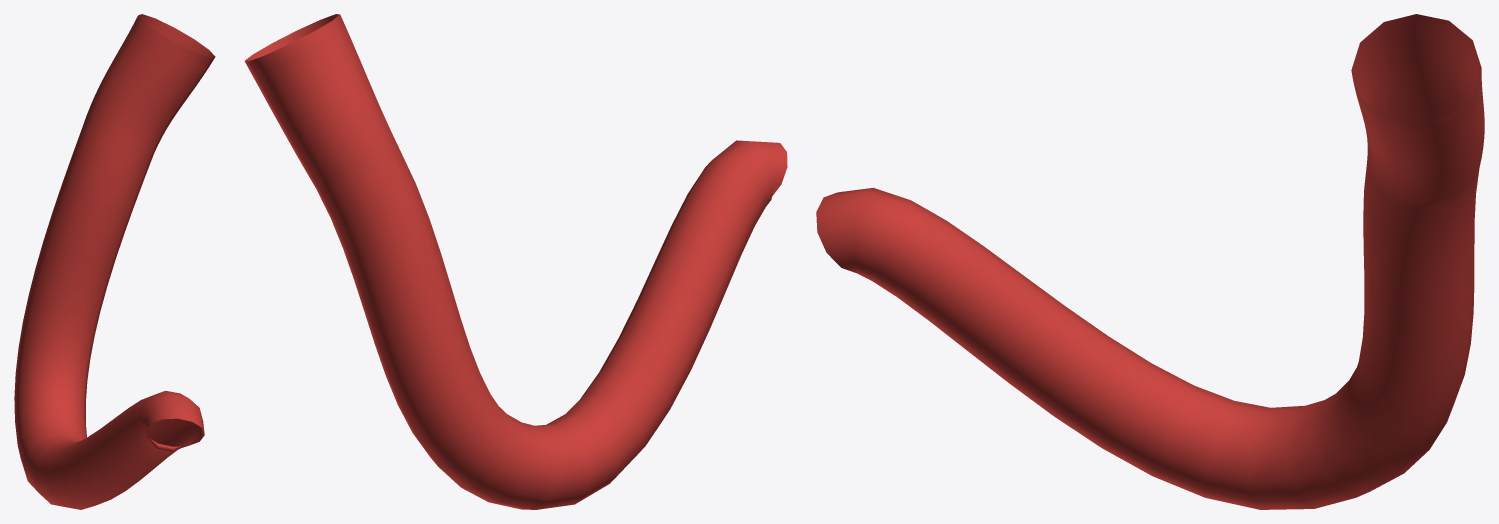
The picture shows the model from 3 angles, left to right: view 1: azimuth 30°, elevation 25°; view 2: azimuth 150°, elevation 25°; view 3: azimuth 270°, elevation 25°; orthographic projection. The views are drawn at different scales.
Parts seen in each view (by area): view 1: 左侧大脑前动脉; view 2: 左侧大脑前动脉; view 3: 左侧大脑前动脉.
Boxes of the visible parts, x1,y1,x2,y2 form: 左侧大脑前动脉: (14,14,215,509); 左侧大脑前动脉: (244,14,787,509); 左侧大脑前动脉: (816,14,1484,509).
Size of the model in its own units: 0.0144 by 0.0221 by 0.0227.
